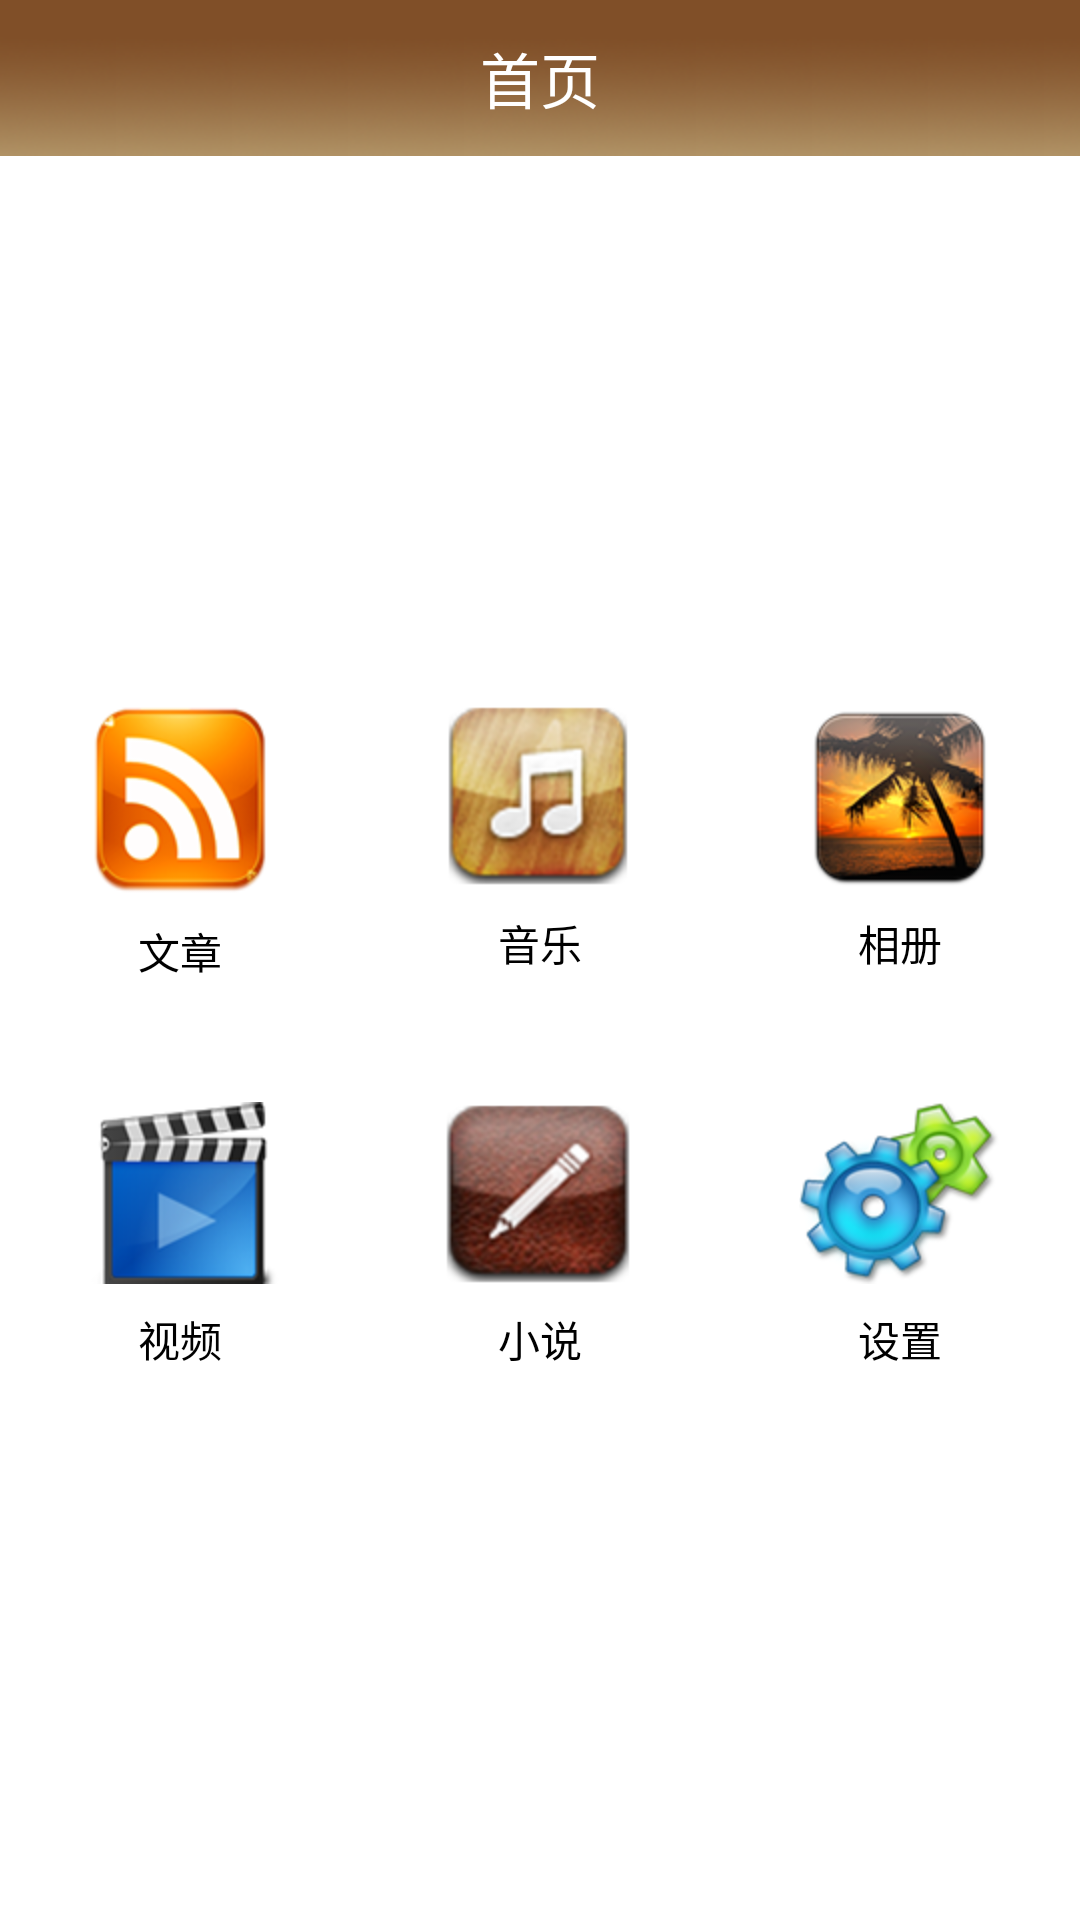

Point at icon controls on the screen. Image size 1080px×1920px, points as (x,y).
index note: (538,1193)
